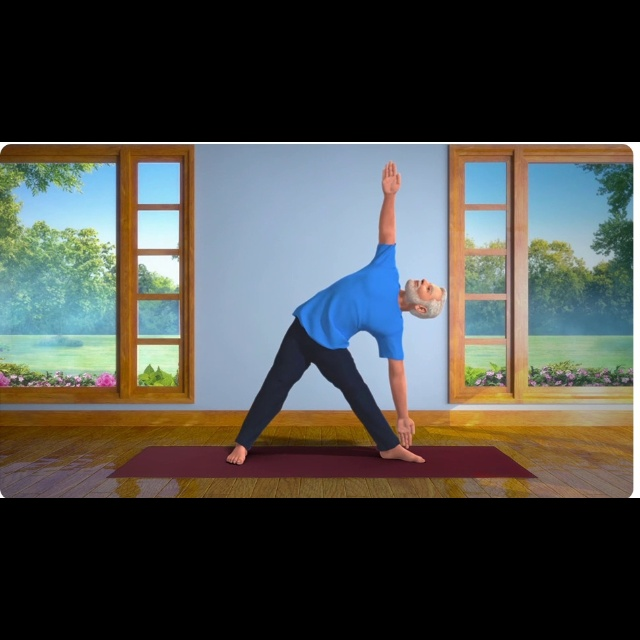Triangle_Pose: (204, 160, 467, 471)
